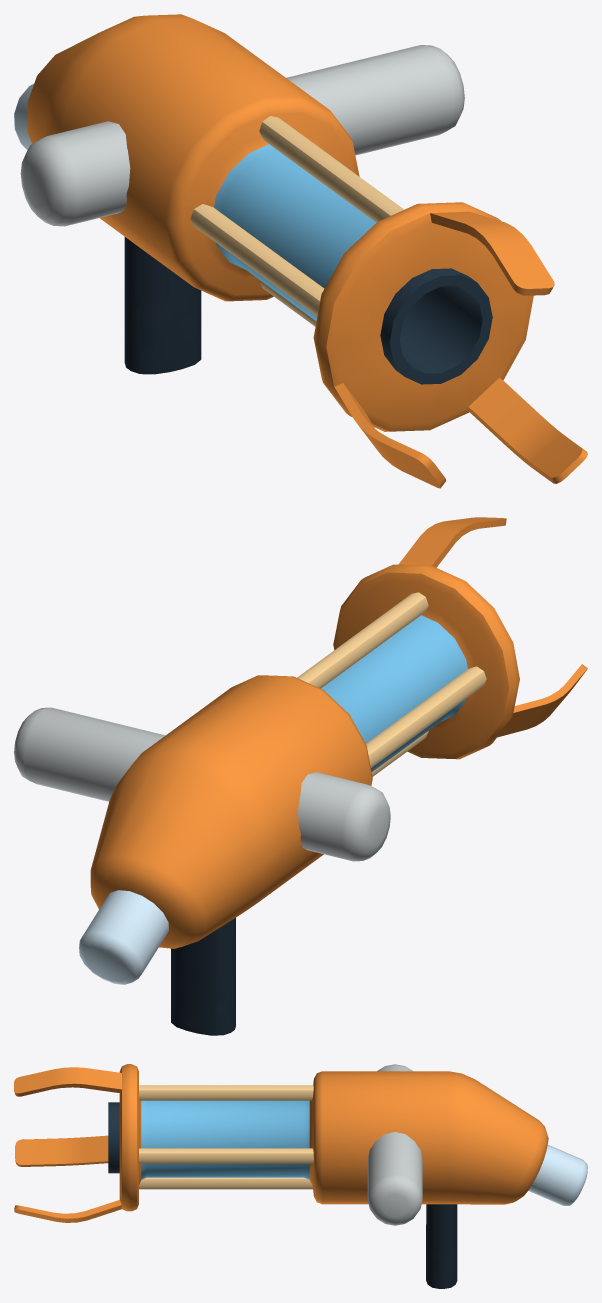
Rendered from Gravity_Gun.fbx.
3 views of the same model, one above another, from view 1: azimuth 30°, elevation 25°; view 2: azimuth 150°, elevation 25°; view 3: azimuth 270°, elevation 25° (orthographic). The views are drawn at different scales.
Visible parts, largest first — view 1: Cube.001, Cube.006, Cube.005, Cube.002; view 2: Cube.001, Cube.006, Cube.005, Cube.002; view 3: Cube.001, Cube.006, Cube.003, Cube.005, Cube.004.
Boxes of the visible parts, bbox=[...] form: Cube.001: bbox=[14, 14, 587, 488]; Cube.006: bbox=[214, 144, 376, 321]; Cube.005: bbox=[259, 116, 403, 222]; Cube.002: bbox=[190, 204, 324, 316]; Cube.001: bbox=[14, 517, 587, 1035]; Cube.006: bbox=[321, 615, 467, 771]; Cube.005: bbox=[297, 592, 428, 688]; Cube.002: bbox=[366, 666, 486, 767]; Cube.001: bbox=[14, 1064, 587, 1288]; Cube.006: bbox=[141, 1100, 309, 1179]; Cube.003: bbox=[139, 1148, 313, 1163]; Cube.005: bbox=[139, 1085, 313, 1100]; Cube.004: bbox=[139, 1177, 312, 1189].
Bounding box in the file's own units: 34.75 × 28.47 × 69.59.
